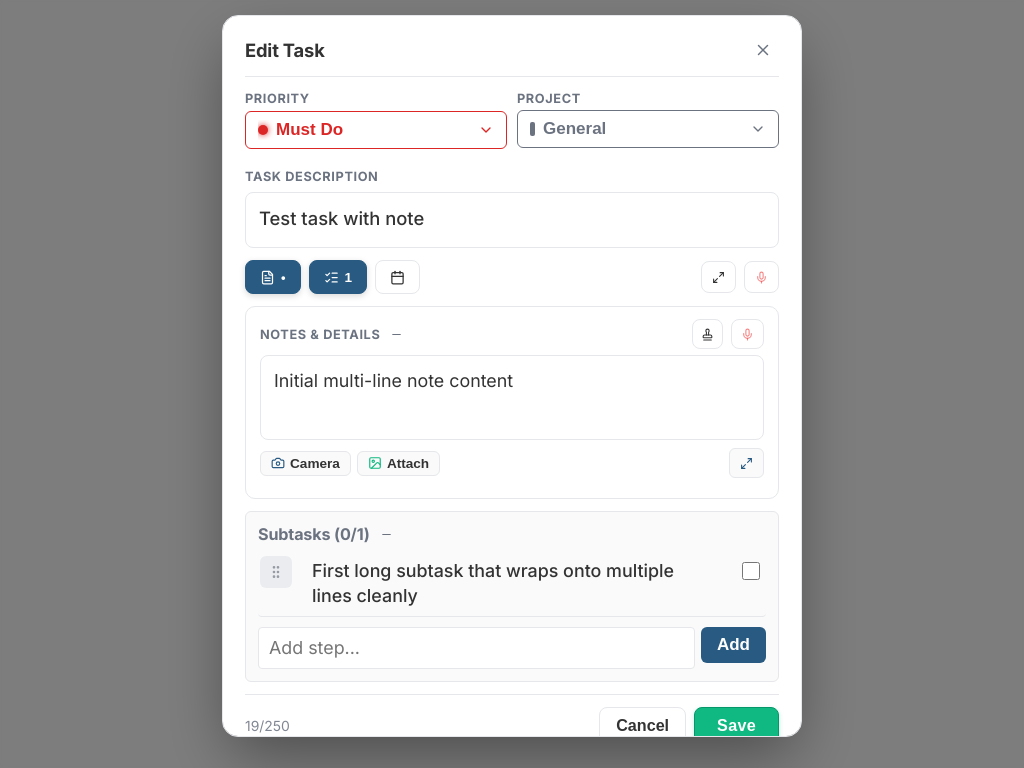
EditModal › displays all project options when opening project dropdown in edit modal
Click project dropdown button to open
Click the button "General" at x=575, y=129, box [517, 110, 779, 148]
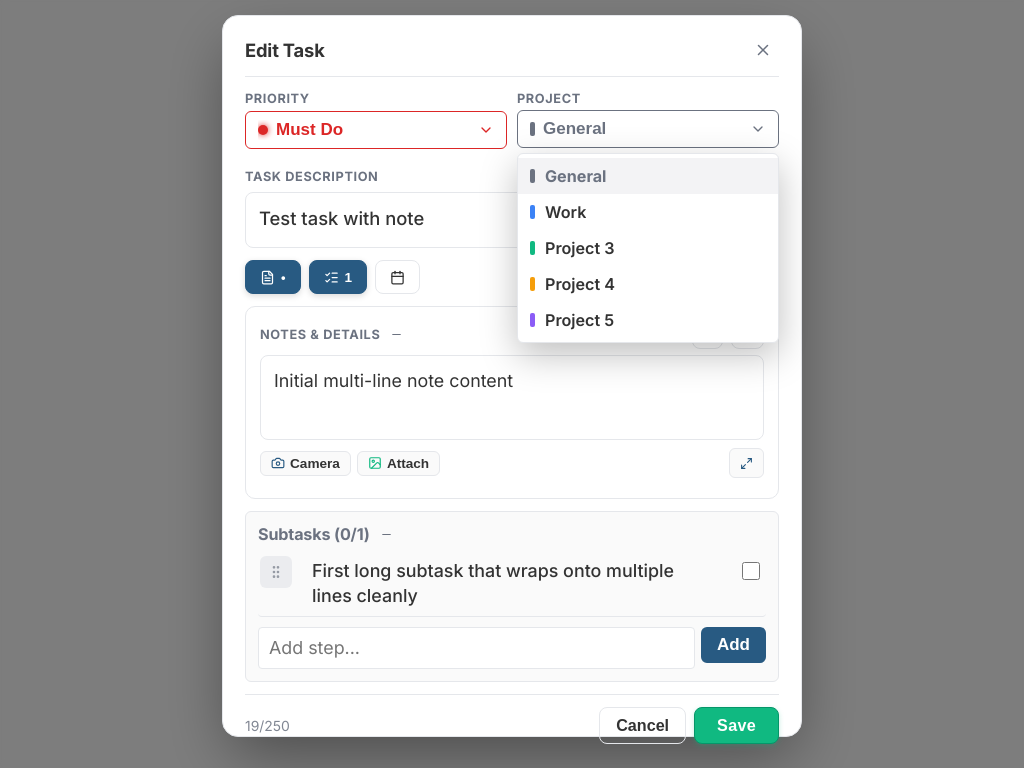
Now the text "Project 3" is shown, box [545, 238, 614, 258]
Now the text "Project 4" is shown, box [545, 274, 615, 294]
Now the text "Project 5" is shown, box [545, 310, 614, 330]
